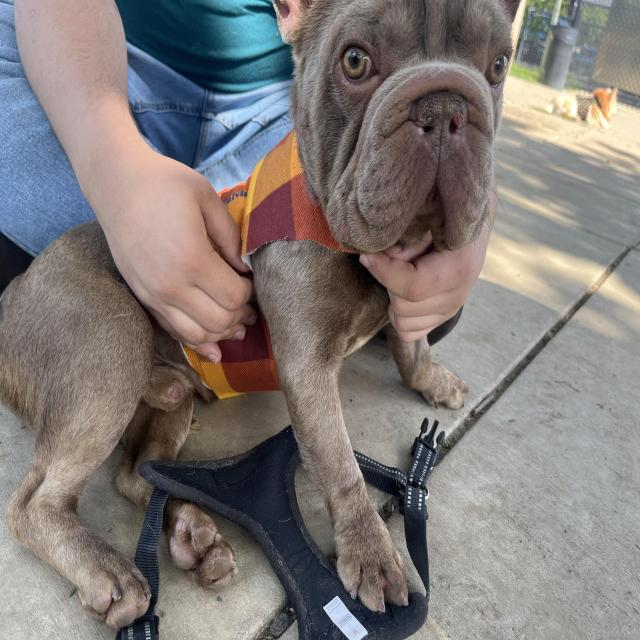french_bulldog_dog: (268, 1, 548, 288)
